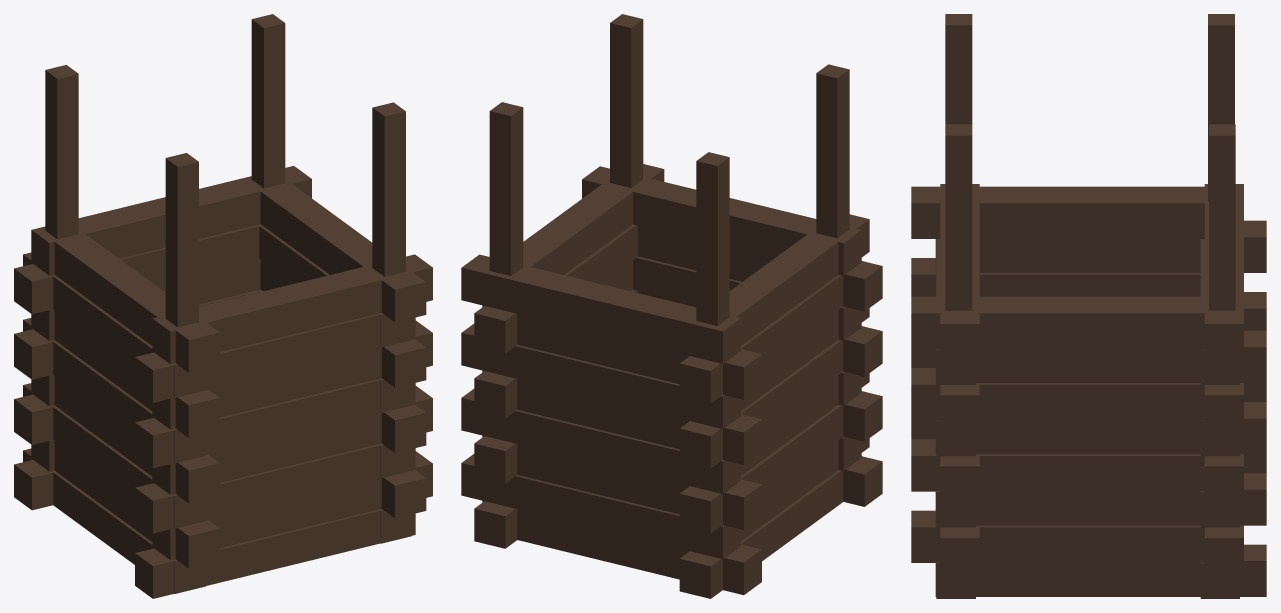
File: Tower Top base.fbx
3 renders of one model, left to right at view 1: azimuth 30°, elevation 25°; view 2: azimuth 150°, elevation 25°; view 3: azimuth 270°, elevation 25°, orthographic. The views are drawn at different scales.
Visible parts, largest first — view 1: Cube.270; view 2: Cube.270; view 3: Cube.270.
Part boxes in pixels (x1,y1,x2,y2): Cube.270: (14,14,432,598); Cube.270: (461,14,882,598); Cube.270: (911,14,1266,598).
Size of the model in its own units: 3.24 by 4.64 by 3.24.
